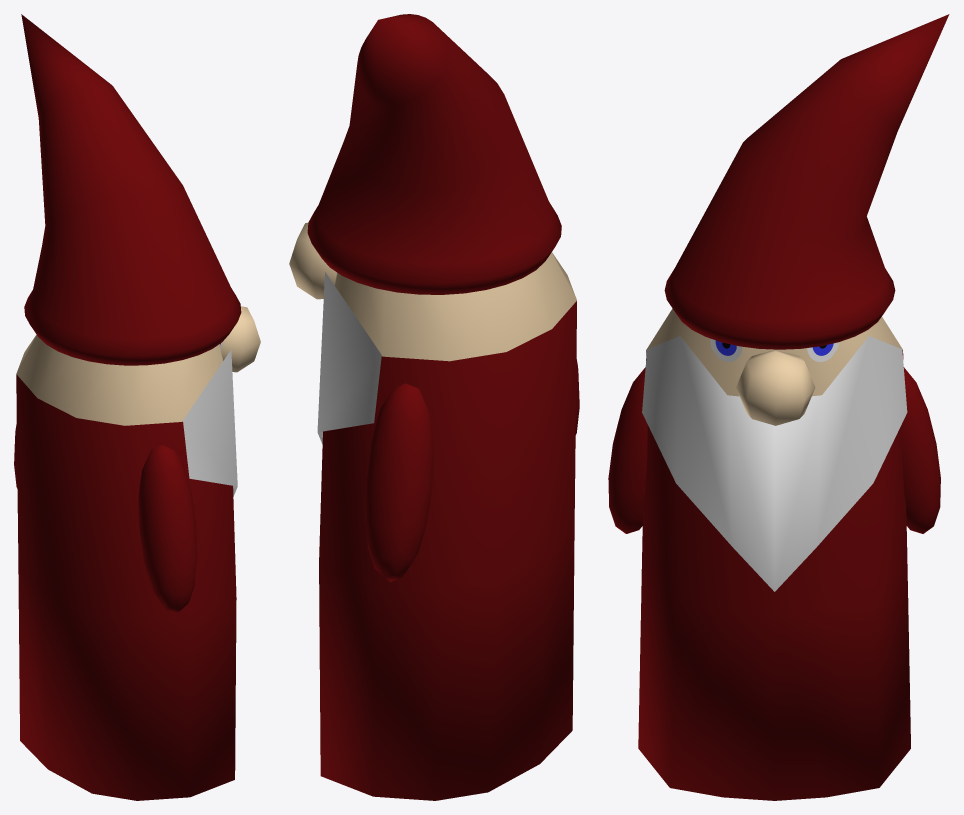
File: RodNise.gltf
3 views of the same model, side by side, from view 1: azimuth 30°, elevation 25°; view 2: azimuth 150°, elevation 25°; view 3: azimuth 270°, elevation 25° (orthographic). The views are drawn at different scales.
Parts seen in each view (by area): view 1: RødNise; view 2: RødNise; view 3: RødNise.
Part boxes in pixels (x1,y1,x2,y2): RødNise: (14,14,260,800); RødNise: (289,14,579,800); RødNise: (608,14,949,800).
Bounding box in the file's own units: 5.67 × 17.11 × 7.21.
